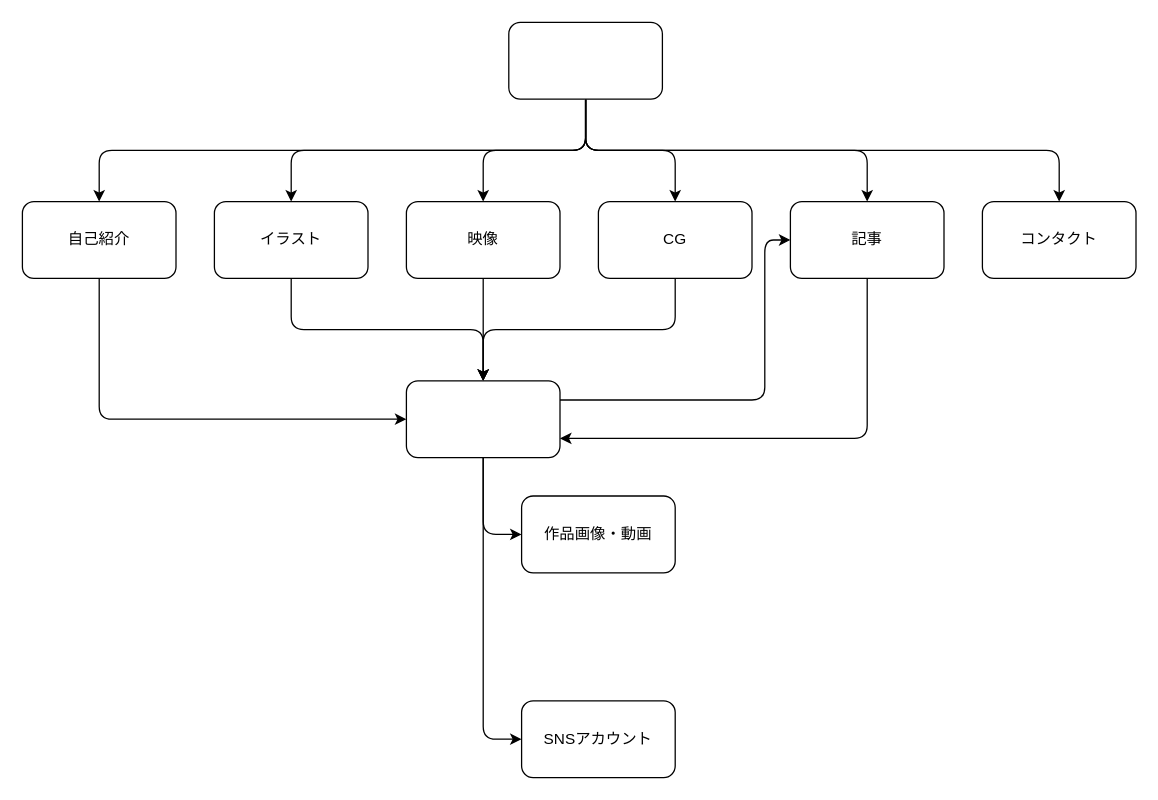
This 1158x800 diagram has some shape labels left out. Here are the shapes that lost their labels. From the top down, the box of each, then its label:
(508, 21, 662, 99): トップページ
(405, 380, 560, 458): 作品
